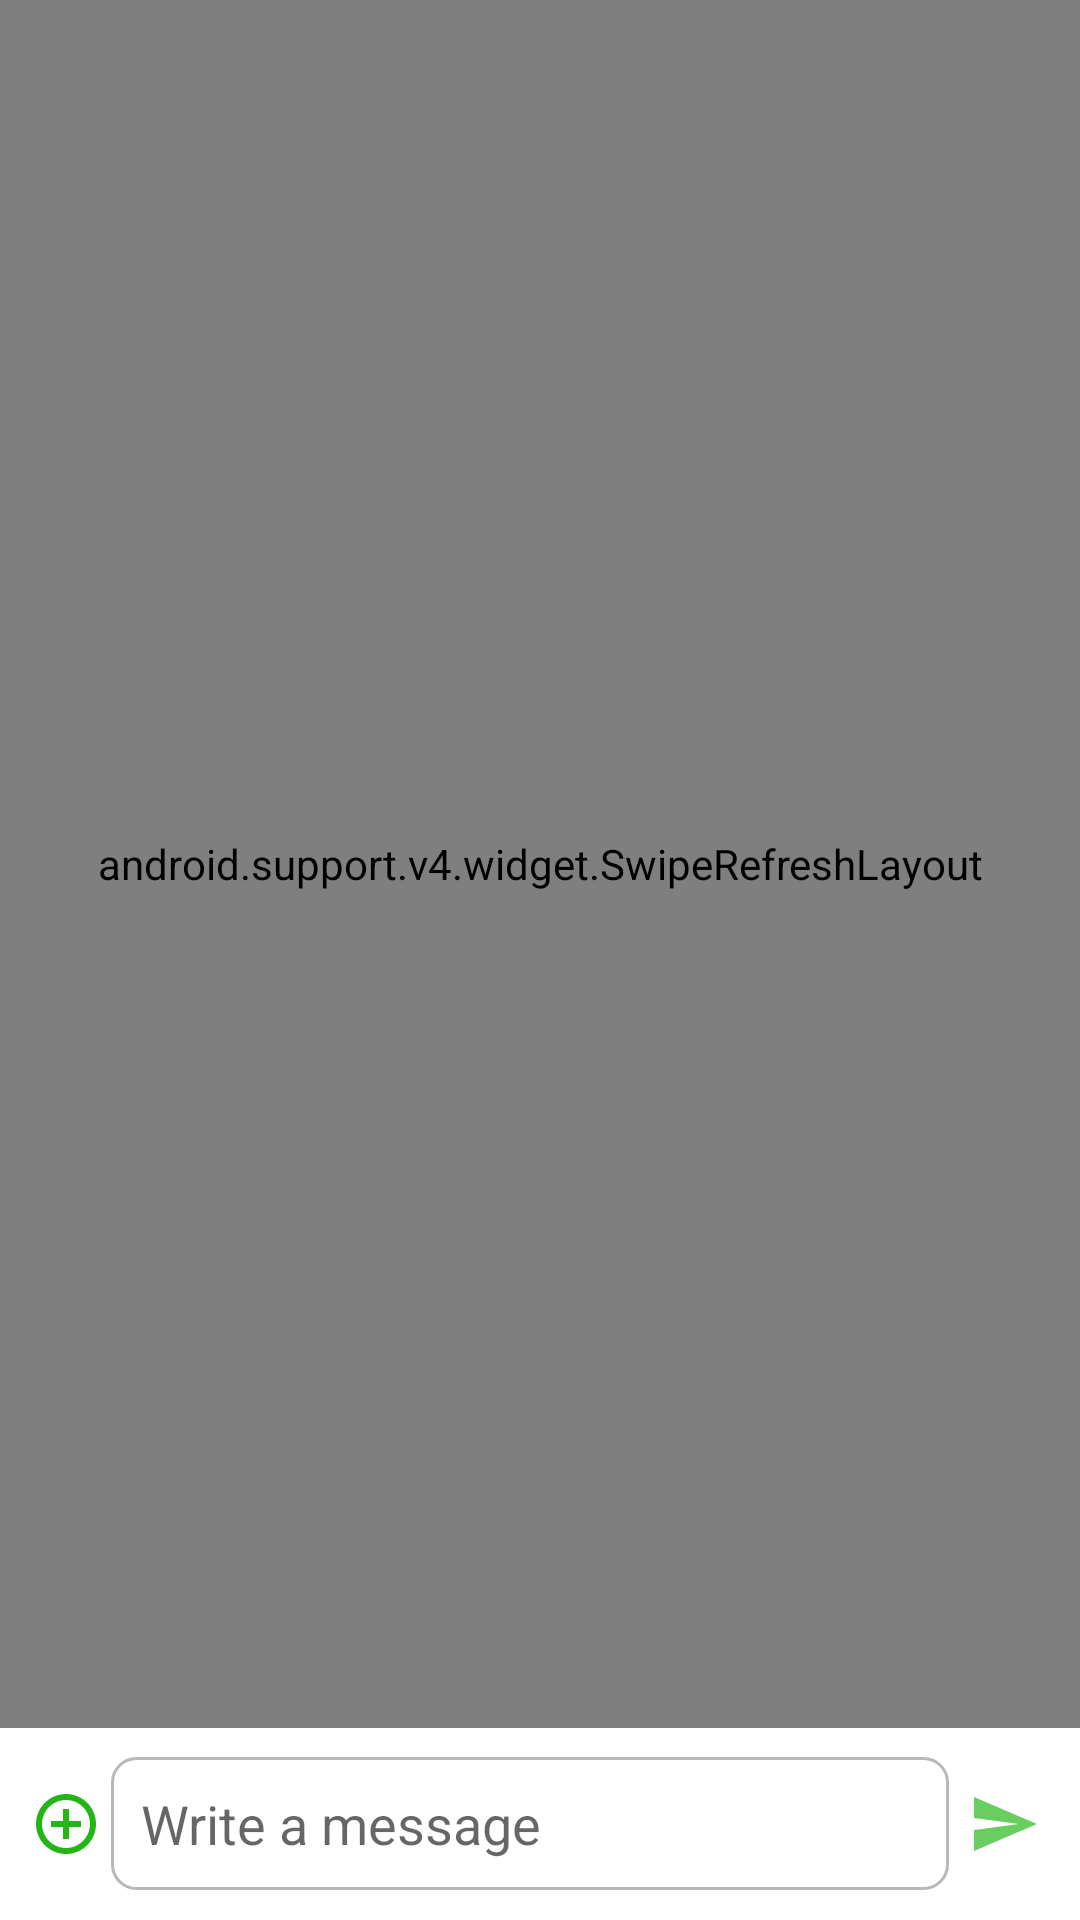

Locate icon controls on the screen. Image size 1080px×1920px, boxes as {"left": x1, "top": y1, "right": x2, "bottom": y2}.
add circle: {"left": 36, "top": 1794, "right": 96, "bottom": 1854}
send: {"left": 974, "top": 1797, "right": 1037, "bottom": 1851}
